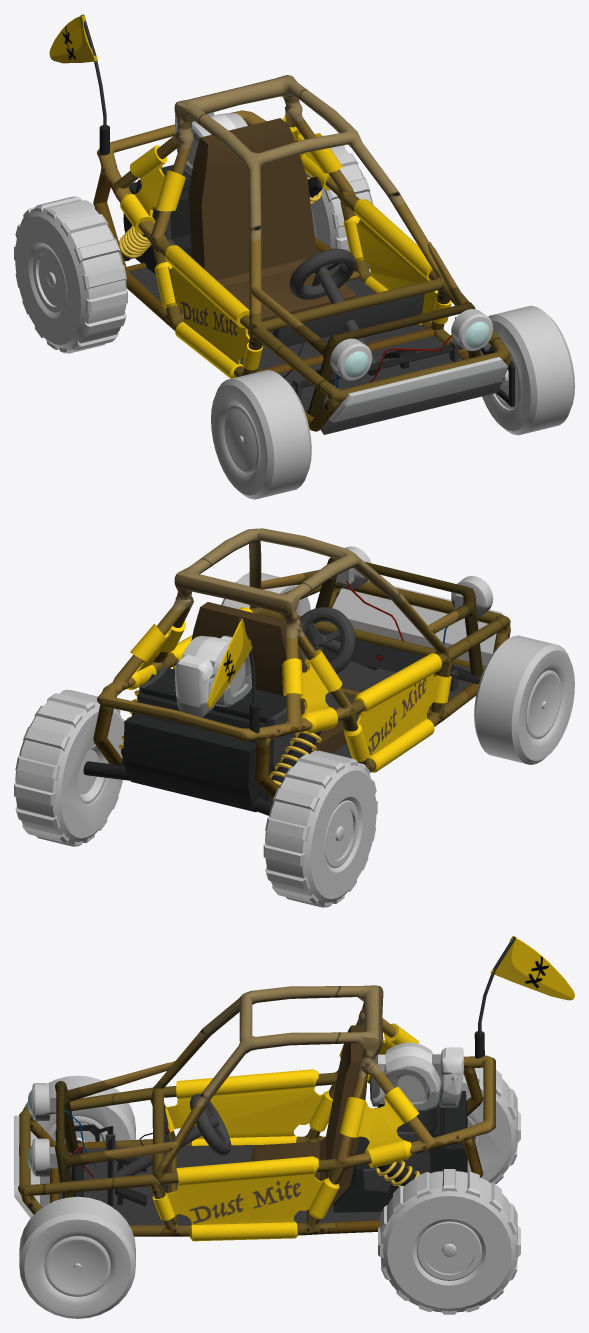
The model's file is HCR2 Buggy.fbx.
3 renders of one model, top to bottom at view 1: azimuth 30°, elevation 25°; view 2: azimuth 150°, elevation 25°; view 3: azimuth 270°, elevation 25°, orthographic. The views are drawn at different scales.
Visible parts, largest first — view 1: HCR2_Buggy_Details, HCR2_Buggy_Body, HCR2_Buggy_Seat, HCR2_Buggy_RR_Wheel, HCR2_Buggy_FR_Wheel, HCR2_Buggy_FL_Wheel, HCR2_Buggy_Chassis, HCR2_Buggy_Body_Front, HCR2_Buggy_Engine, HCR2_Buggy_Lights, HCR2_Buggy_RL_Wheel, HCR2_Buggy_Steer (+3 smaller); view 2: HCR2_Buggy_Body, HCR2_Buggy_Details, HCR2_Buggy_Engine, HCR2_Buggy_RR_Wheel, HCR2_Buggy_RL_Wheel, HCR2_Buggy_FR_Wheel, HCR2_Buggy_Seat, HCR2_Buggy_Body_Front, HCR2_Buggy_Susp, HCR2_Buggy_Steer, HCR2_Buggy_Flag, HCR2_Buggy_Chassis (+3 smaller); view 3: HCR2_Buggy_Details, HCR2_Buggy_Body, HCR2_Buggy_RL_Wheel, HCR2_Buggy_FL_Wheel, HCR2_Buggy_Engine, HCR2_Buggy_Chassis, HCR2_Buggy_Seat, HCR2_Buggy_Body_Front, HCR2_Buggy_RR_Wheel, HCR2_Buggy_Flag, HCR2_Buggy_FR_Wheel, HCR2_Buggy_Lights (+3 smaller).
Boxes of the visible parts, x1,y1,x2,y2 form: HCR2_Buggy_Details: [99, 115, 507, 434]; HCR2_Buggy_Body: [93, 75, 510, 431]; HCR2_Buggy_Seat: [188, 118, 355, 334]; HCR2_Buggy_RR_Wheel: [14, 196, 127, 353]; HCR2_Buggy_FR_Wheel: [211, 370, 311, 499]; HCR2_Buggy_FL_Wheel: [480, 305, 574, 435]; HCR2_Buggy_Chassis: [129, 249, 462, 417]; HCR2_Buggy_Body_Front: [250, 241, 480, 417]; HCR2_Buggy_Engine: [123, 112, 247, 273]; HCR2_Buggy_Lights: [330, 309, 493, 380]; HCR2_Buggy_RL_Wheel: [305, 135, 374, 269]; HCR2_Buggy_Steer: [289, 248, 355, 299]; HCR2_Buggy_Body: [93, 528, 510, 798]; HCR2_Buggy_Details: [127, 580, 503, 772]; HCR2_Buggy_Engine: [123, 635, 311, 812]; HCR2_Buggy_RR_Wheel: [263, 750, 377, 907]; HCR2_Buggy_RL_Wheel: [14, 689, 124, 846]; HCR2_Buggy_FR_Wheel: [474, 635, 574, 764]; HCR2_Buggy_Seat: [191, 602, 346, 753]; HCR2_Buggy_Body_Front: [261, 557, 482, 676]; HCR2_Buggy_Susp: [83, 664, 479, 815]; HCR2_Buggy_Steer: [299, 607, 355, 673]; HCR2_Buggy_Flag: [207, 618, 255, 708]; HCR2_Buggy_Chassis: [325, 661, 483, 758]; HCR2_Buggy_Details: [14, 1023, 484, 1241]; HCR2_Buggy_Body: [18, 985, 496, 1236]; HCR2_Buggy_RL_Wheel: [378, 1169, 520, 1314]; HCR2_Buggy_FL_Wheel: [19, 1196, 135, 1318]; HCR2_Buggy_Engine: [333, 1042, 467, 1212]; HCR2_Buggy_Chassis: [59, 1145, 381, 1225]; HCR2_Buggy_Seat: [251, 1025, 366, 1209]; HCR2_Buggy_Body_Front: [55, 1061, 177, 1198]; HCR2_Buggy_RR_Wheel: [461, 1067, 520, 1183]; HCR2_Buggy_Flag: [478, 936, 574, 1033]; HCR2_Buggy_FR_Wheel: [23, 1075, 135, 1143]; HCR2_Buggy_Lights: [28, 1083, 57, 1176].
Bounding box in the file's own units: 221 × 202 × 371.
